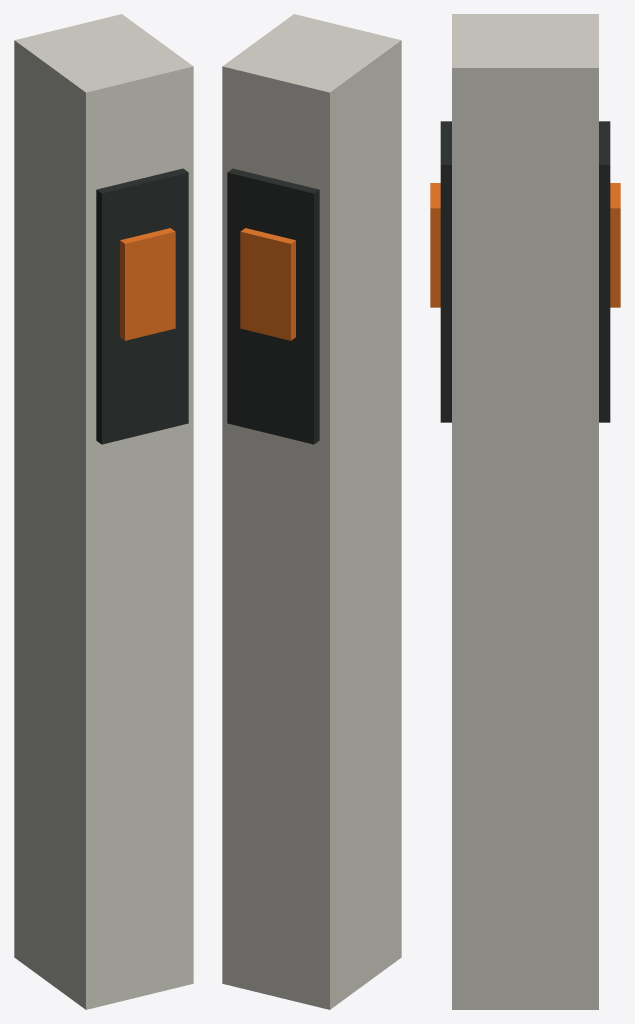
The model's file is Delineator_A_LOD2.fbx.
3 renders of one model, left to right at view 1: azimuth 30°, elevation 25°; view 2: azimuth 150°, elevation 25°; view 3: azimuth 270°, elevation 25°, orthographic. The views are drawn at different scales.
Visible parts, largest first — view 1: Delineator_A_LOD2; view 2: Delineator_A_LOD2; view 3: Delineator_A_LOD2.
Part boxes in pixels (left/top/right/bottom): Delineator_A_LOD2: left=14, top=14, right=193, bottom=1009; Delineator_A_LOD2: left=222, top=14, right=401, bottom=1009; Delineator_A_LOD2: left=430, top=14, right=620, bottom=1009.
Bounding box in the file's own units: 0.13 × 1.06 × 0.194.
